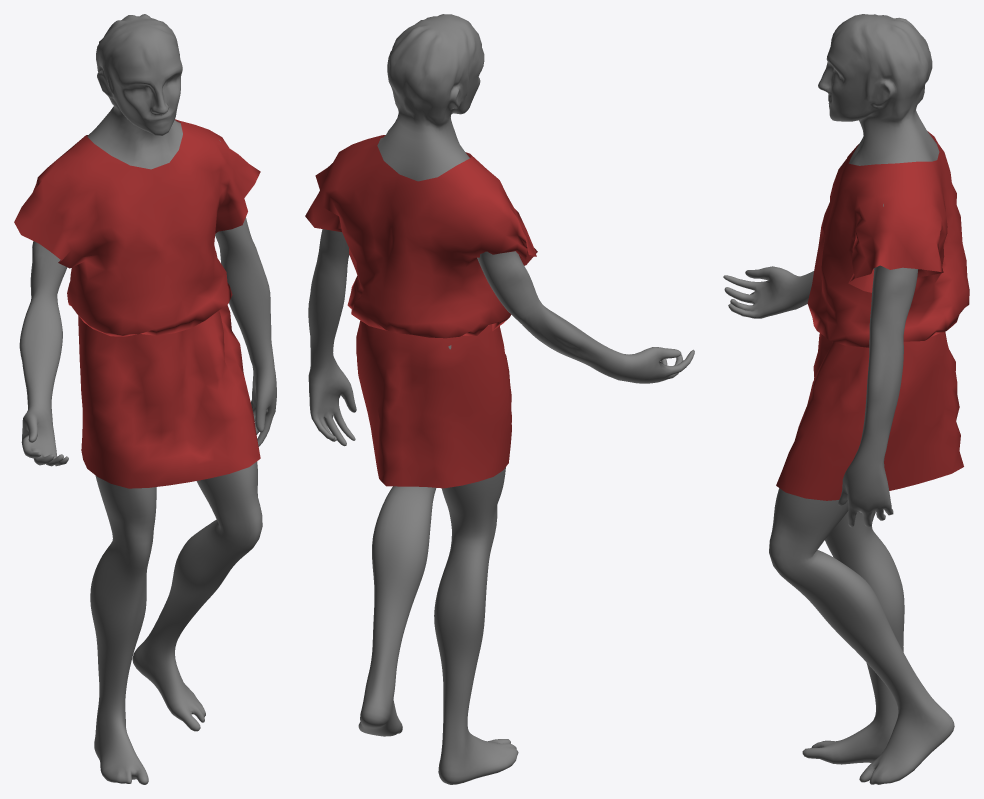
File: SM_sculpture_man.fbx
3 renders of one model, left to right at view 1: azimuth 30°, elevation 25°; view 2: azimuth 150°, elevation 25°; view 3: azimuth 270°, elevation 25°, orthographic. The views are drawn at different scales.
Visible parts, largest first — view 1: 21; view 2: 21; view 3: 21.
Boxes of the visible parts, <box> form: 21: <box>14,14,276,784</box>; 21: <box>305,14,694,784</box>; 21: <box>723,14,969,784</box>.
Size of the model in its own units: 30.79 by 70.37 by 20.65.
